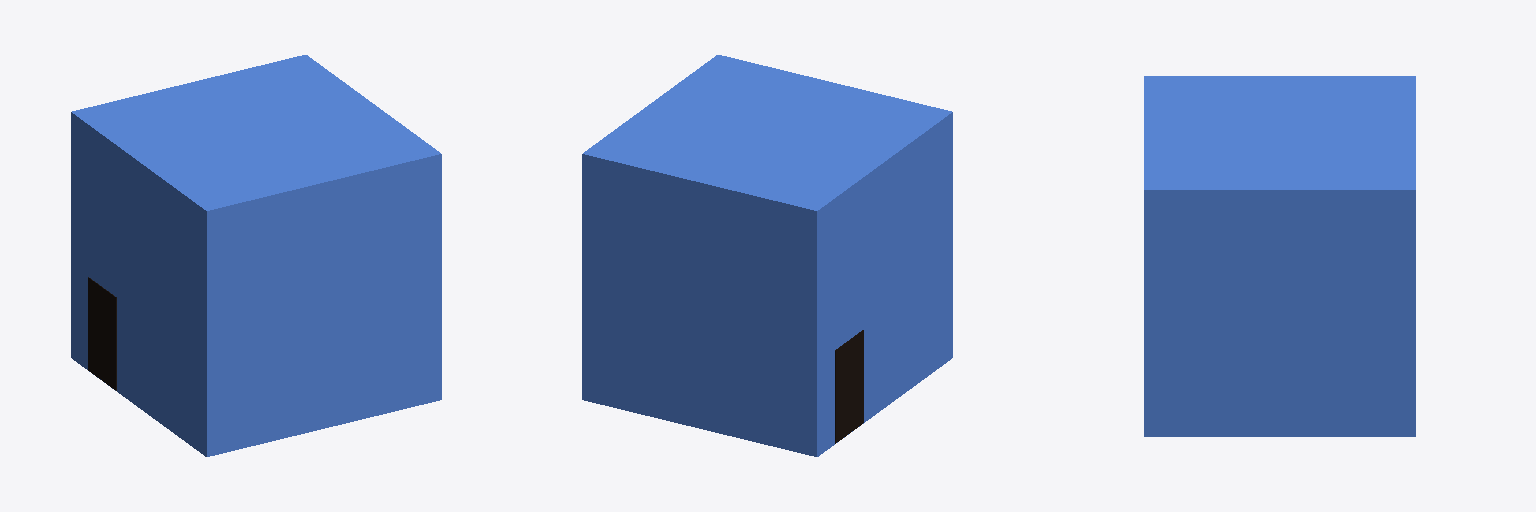
The model's file is room.obj.
3 renders of one model, left to right at view 1: azimuth 30°, elevation 25°; view 2: azimuth 150°, elevation 25°; view 3: azimuth 270°, elevation 25°, orthographic.
Parts seen in each view (by area): view 1: room, Cube; view 2: room, Cube; view 3: room.
Part boxes in pixels (x1,y1,x2,y2): room: (71, 55, 441, 456); Cube: (88, 277, 116, 390); room: (582, 55, 952, 456); Cube: (835, 330, 863, 443); room: (1144, 76, 1415, 436).
Bounding box in the file's own units: 4.01 × 4 × 4.